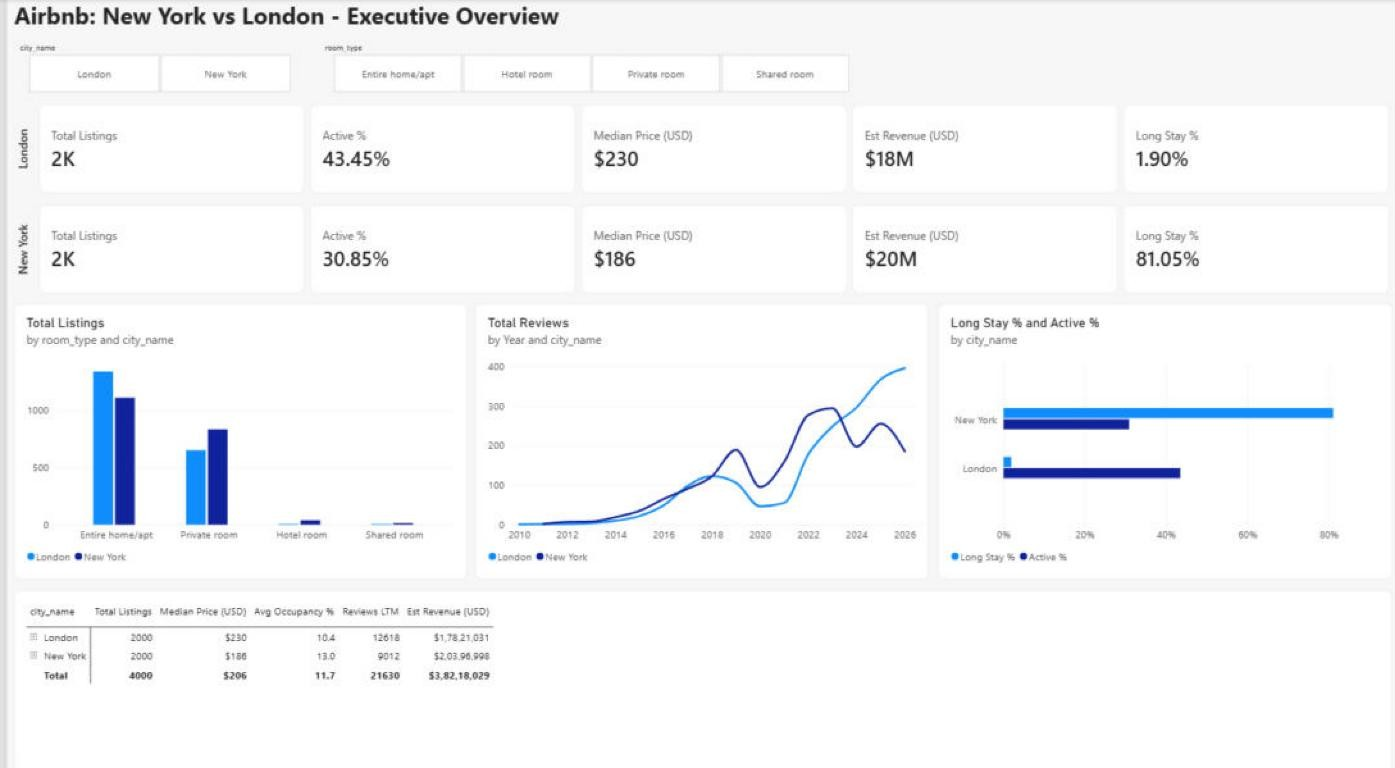

What the dashboard file says about the page in this screenshot:
{"tool":"powerbi","page":{"name":"Overview","canvas":[1920,1080],"ordinal":0},"visuals":[{"type":"textbox","box":[10,0,900,55],"z":0},{"type":"slicer","fields":{"Values":["City.city_name"]},"box":[10,60,400,70],"z":1000},{"type":"slicer","fields":{"Values":["RoomType.room_type"]},"box":[430,60,750,70],"z":2000},{"type":"cardVisual","fields":{"Data":["Listing.Total Listings","Listing.Active %","Listing.Median Price (USD)","Listing.Est Revenue (USD)","Listing.Long Stay %"],"Rows":["City.city_name"]},"box":[10,145,1900,260],"z":3000},{"type":"clusteredColumnChart","fields":{"Category":["RoomType.room_type"],"Y":["Listing.Total Listings"],"Series":["City.city_name"]},"box":[10,420,625,380],"z":4000},{"type":"lineChart","fields":{"Category":["Reviews.review_month.Variation.Date Hierarchy.Year"],"Y":["Listing.Total Reviews"],"Series":["City.city_name"]},"box":[647,420,625,380],"z":5000},{"type":"clusteredBarChart","fields":{"Category":["City.city_name"],"Y":["Listing.Long Stay %","Listing.Active %"]},"box":[1284,420,626,380],"z":6000},{"type":"pivotTable","fields":{"Rows":["City.city_name","RoomType.room_type"],"Values":["Listing.Total Listings","Listing.Median Price (USD)","Listing.Avg Occupancy %","Listing.Reviews LTM","Listing.Est Revenue (USD)"]},"box":[10,815,1900,250],"z":7000}]}

Visuals, with their boxes in screenshot pixels (x1, y1, x2, y2), scaled from the page's 1920x1080 canvas onto the 1395x768 screenshot:
textbox: [left=7, top=0, right=661, bottom=39]
slicer - City.city_name: [left=7, top=43, right=298, bottom=92]
slicer - RoomType.room_type: [left=312, top=43, right=857, bottom=92]
cardVisual - Listing.Total Listings x Listing.Active %: [left=7, top=103, right=1388, bottom=288]
clusteredColumnChart - RoomType.room_type x Listing.Total Listings: [left=7, top=299, right=461, bottom=569]
lineChart - Reviews.review_month.Variation.Date Hierarchy.Year x Listing.Total Reviews: [left=470, top=299, right=924, bottom=569]
clusteredBarChart - City.city_name x Listing.Long Stay %: [left=933, top=299, right=1388, bottom=569]
pivotTable - City.city_name x RoomType.room_type: [left=7, top=580, right=1388, bottom=757]
